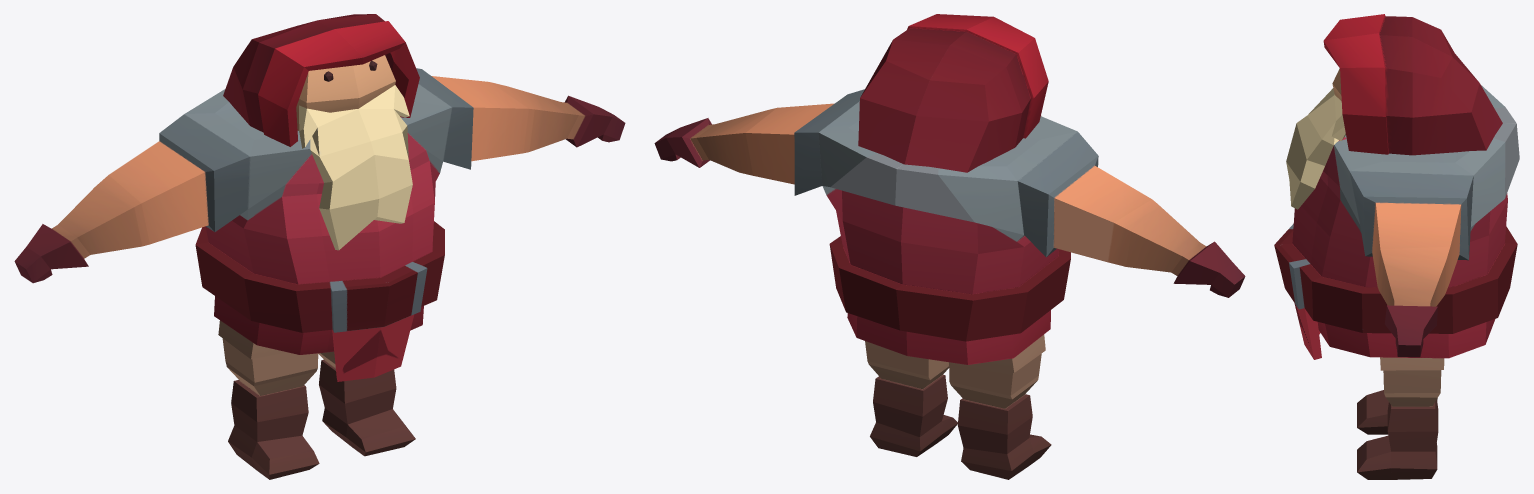
Rendered from LumberJack.fbx.
The picture shows the model from 3 angles, left to right: view 1: azimuth 30°, elevation 25°; view 2: azimuth 150°, elevation 25°; view 3: azimuth 270°, elevation 25°; orthographic projection. The views are drawn at different scales.
Visible parts, largest first — view 1: Cube, Cube.001, Cube.002, Cube.004, Cube.003; view 2: Cube, Cube.002, Cube.001; view 3: Cube, Cube.002, Cube.001, Cube.004.
Boxes of the visible parts, <box> form: Cube: <box>14,68,625,381</box>; Cube.001: <box>218,320,415,479</box>; Cube.002: <box>223,14,419,146</box>; Cube.004: <box>299,85,412,250</box>; Cube.003: <box>296,55,395,130</box>; Cube: <box>654,89,1245,364</box>; Cube.002: <box>858,14,1048,172</box>; Cube.001: <box>865,334,1051,479</box>; Cube: <box>1274,85,1519,359</box>; Cube.002: <box>1323,14,1502,155</box>; Cube.001: <box>1357,357,1444,479</box>; Cube.004: <box>1286,88,1345,209</box>.
Bounding box in the file's own units: 286 × 195 × 104.
1 material, 1 textured.
